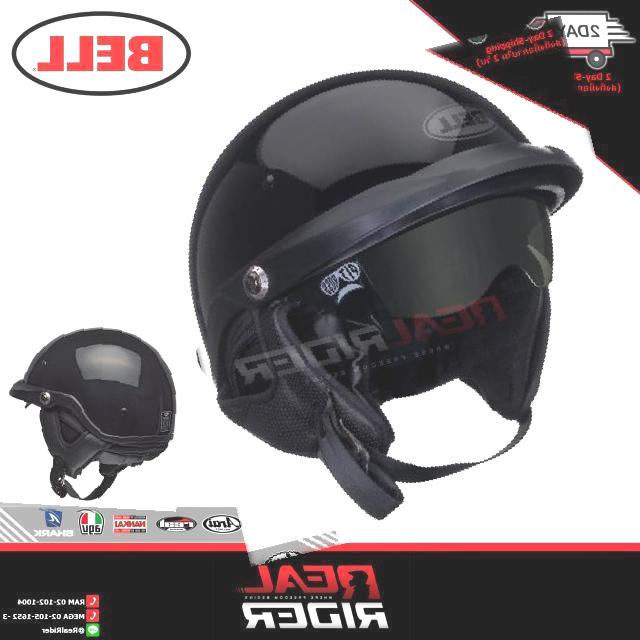helmet: (165, 39, 640, 544), (0, 307, 185, 515)
